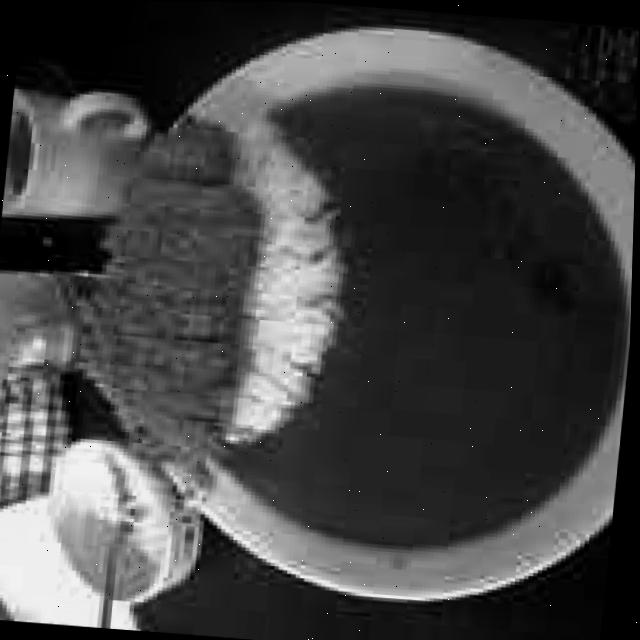猪肉菜式: (0, 47, 620, 521)
